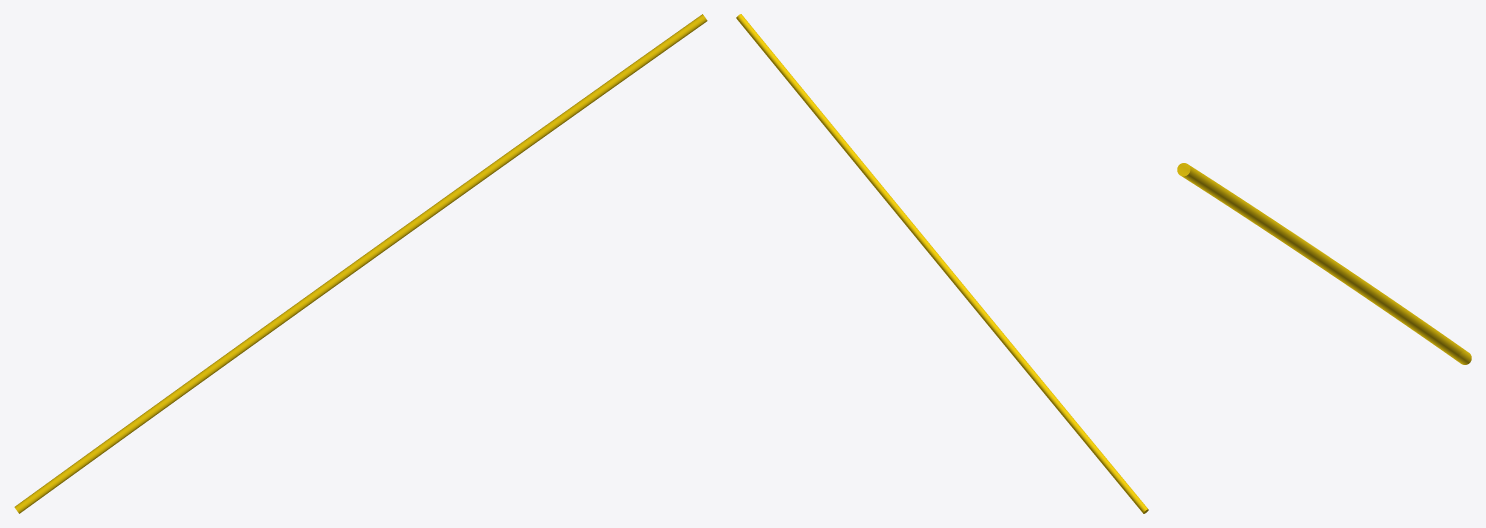
The model's file is Event_421115418_track_1.fbx.
3 renders of one model, left to right at view 1: azimuth 30°, elevation 25°; view 2: azimuth 150°, elevation 25°; view 3: azimuth 270°, elevation 25°, orthographic. The views are drawn at different scales.
Parts seen in each view (by area): view 1: Model; view 2: Model; view 3: Model.
Boxes of the visible parts, x1,y1,x2,y2 form: Model: [14, 14, 707, 513]; Model: [736, 14, 1148, 513]; Model: [1177, 163, 1471, 364].
Bounding box in the file's own units: 3.25 × 2.15 × 0.8625.
